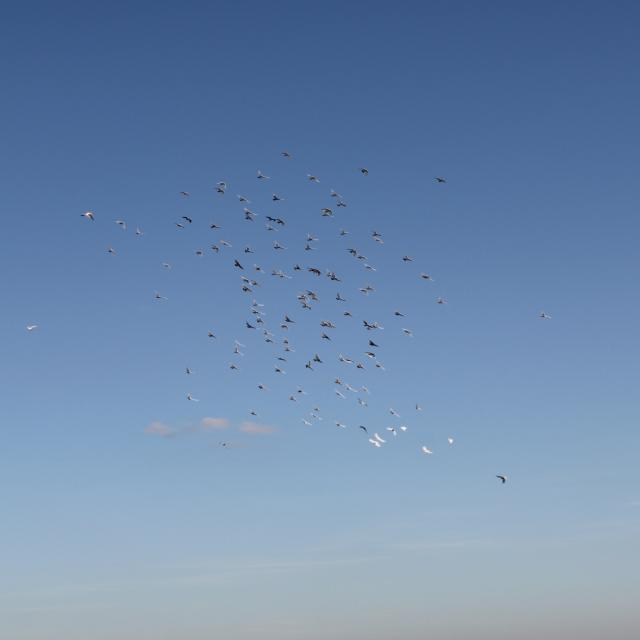bird: (327, 271, 341, 283), (388, 405, 400, 419), (319, 206, 332, 218), (306, 291, 319, 303), (297, 294, 310, 306), (307, 267, 321, 278), (244, 320, 259, 330), (23, 322, 38, 332), (359, 166, 372, 177), (496, 475, 509, 486), (334, 198, 347, 209), (82, 213, 95, 224), (305, 238, 316, 251), (346, 246, 360, 256), (280, 338, 290, 352), (152, 292, 166, 302), (384, 426, 398, 436), (271, 270, 286, 279), (368, 438, 381, 448), (434, 175, 448, 184), (420, 272, 434, 281), (237, 194, 251, 203), (318, 319, 332, 328), (250, 300, 264, 309), (233, 261, 245, 271), (240, 286, 252, 296), (232, 344, 242, 356), (180, 190, 192, 200), (256, 171, 268, 181), (283, 340, 293, 352), (300, 301, 312, 311), (284, 314, 296, 324), (274, 356, 286, 366), (183, 394, 198, 402), (344, 384, 356, 394), (360, 384, 370, 396), (272, 193, 285, 202), (326, 320, 339, 329), (242, 208, 258, 215), (266, 224, 280, 232), (402, 253, 413, 263), (208, 220, 219, 230), (280, 151, 291, 161), (253, 264, 264, 274), (273, 241, 284, 251), (334, 294, 345, 304), (362, 320, 373, 330), (313, 353, 323, 364), (402, 328, 413, 338), (107, 245, 117, 256), (422, 445, 433, 455), (330, 190, 341, 200), (376, 432, 386, 443), (365, 282, 376, 292), (242, 246, 254, 255), (306, 173, 318, 182), (366, 350, 378, 359), (264, 335, 276, 344), (335, 389, 347, 398), (213, 188, 226, 196), (364, 263, 377, 271), (436, 298, 449, 306), (337, 354, 350, 362), (334, 420, 347, 428), (258, 382, 268, 392), (321, 332, 331, 342), (360, 423, 370, 433), (338, 228, 348, 238), (206, 332, 216, 342), (194, 248, 204, 258), (210, 243, 220, 253), (368, 340, 379, 349), (373, 321, 384, 330), (394, 310, 406, 318), (374, 361, 386, 369), (249, 279, 261, 287), (276, 354, 288, 362), (540, 311, 552, 319), (250, 307, 262, 315), (217, 441, 229, 449), (262, 328, 274, 336), (373, 236, 385, 244), (369, 230, 382, 237), (215, 181, 228, 188), (294, 264, 304, 273), (305, 361, 314, 371), (273, 367, 283, 376), (313, 404, 322, 414), (333, 376, 342, 386), (230, 364, 240, 373), (356, 362, 366, 371), (220, 240, 230, 249), (116, 221, 126, 230), (414, 403, 424, 412), (294, 389, 305, 397), (234, 340, 246, 347), (278, 323, 290, 330), (309, 412, 321, 419), (186, 368, 195, 377), (342, 310, 352, 318), (256, 316, 266, 324), (249, 409, 257, 419), (162, 263, 172, 271), (134, 227, 144, 235), (182, 216, 193, 223), (238, 277, 249, 284), (359, 288, 368, 296), (296, 387, 305, 395), (290, 396, 298, 405), (265, 216, 277, 222), (446, 438, 455, 446), (360, 399, 368, 408), (302, 419, 312, 426), (173, 222, 184, 228), (400, 424, 408, 432), (276, 219, 285, 226), (244, 215, 254, 220)
